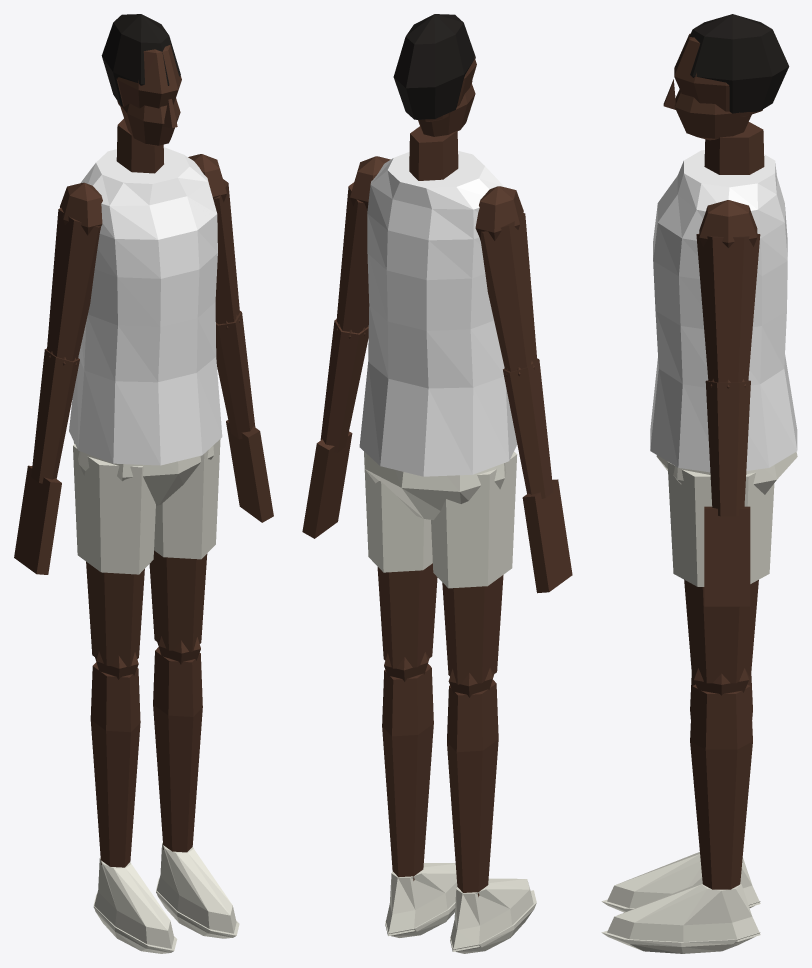
File: player.glb
The picture shows the model from 3 angles, left to right: view 1: azimuth 30°, elevation 25°; view 2: azimuth 150°, elevation 25°; view 3: azimuth 270°, elevation 25°; orthographic projection. The views are drawn at different scales.
Parts seen in each view (by area): view 1: joint_body, joint_thighL, joint_shinL, joint_shinR, joint_thighR, joint_head, joint_forearmL, joint_armL, joint_forearmR, joint_armR; view 2: joint_body, joint_shinL, joint_thighL, joint_shinR, joint_thighR, joint_head, joint_forearmL, joint_armL, joint_forearmR, joint_armR; view 3: joint_body, joint_shinR, joint_head, joint_thighR, joint_forearmR, joint_armR, joint_shinL.
Part boxes in pixels (left/top/right/bottom): joint_body: left=69, top=147, right=222, bottom=505; joint_thighL: left=73, top=444, right=155, bottom=679; joint_shinL: left=90, top=662, right=177, bottom=953; joint_shinR: left=153, top=647, right=239, bottom=938; joint_thighR: left=149, top=439, right=220, bottom=664; joint_head: left=101, top=14, right=181, bottom=173; joint_forearmL: left=14, top=348, right=79, bottom=574; joint_armL: left=47, top=182, right=102, bottom=366; joint_forearmR: left=216, top=311, right=273, bottom=522; joint_armR: left=188, top=154, right=239, bottom=329; joint_body: left=359, top=151, right=517, bottom=519; joint_shinL: left=447, top=679, right=536, bottom=953; joint_thighL: left=431, top=451, right=517, bottom=697; joint_shinR: left=382, top=664, right=457, bottom=937; joint_thighR: left=364, top=451, right=437, bottom=681; joint_head: left=393, top=14, right=476, bottom=180; joint_forearmL: left=503, top=358, right=572, bottom=593; joint_armL: left=475, top=186, right=537, bottom=376; joint_forearmR: left=302, top=319, right=368, bottom=538; joint_armR: left=336, top=156, right=390, bottom=338; joint_body: left=650, top=150, right=797, bottom=494; joint_shinR: left=601, top=684, right=760, bottom=953; joint_head: left=663, top=14, right=789, bottom=174; joint_thighR: left=667, top=462, right=774, bottom=695; joint_forearmR: left=704, top=380, right=750, bottom=606; joint_armR: left=696, top=200, right=760, bottom=388; joint_shinL: left=601, top=673, right=760, bottom=912.
Size of the model in its own units: 0.5 by 1.8 by 0.35.
